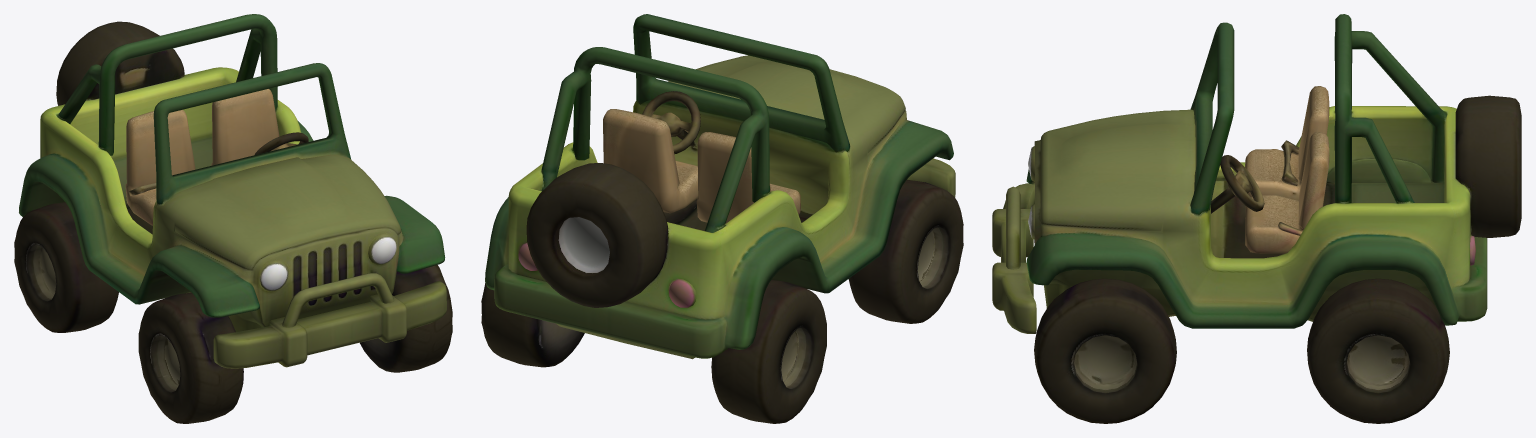
File: car-cakal.glb
3 renders of one model, left to right at view 1: azimuth 30°, elevation 25°; view 2: azimuth 150°, elevation 25°; view 3: azimuth 270°, elevation 25°, orthographic. The views are drawn at different scales.
Visible parts, largest first — view 1: tripo_node_b2f8fbf0-215f-4c2e-a1a0-54dc0f6bba23; view 2: tripo_node_b2f8fbf0-215f-4c2e-a1a0-54dc0f6bba23; view 3: tripo_node_b2f8fbf0-215f-4c2e-a1a0-54dc0f6bba23.
Part boxes in pixels (bbox=[...]): tripo_node_b2f8fbf0-215f-4c2e-a1a0-54dc0f6bba23: bbox=[14, 14, 452, 423]; tripo_node_b2f8fbf0-215f-4c2e-a1a0-54dc0f6bba23: bbox=[481, 14, 963, 423]; tripo_node_b2f8fbf0-215f-4c2e-a1a0-54dc0f6bba23: bbox=[992, 14, 1521, 423].
Size of the model in its own units: 0.6265 by 0.647 by 0.9995.
1 material, 1 textured.
